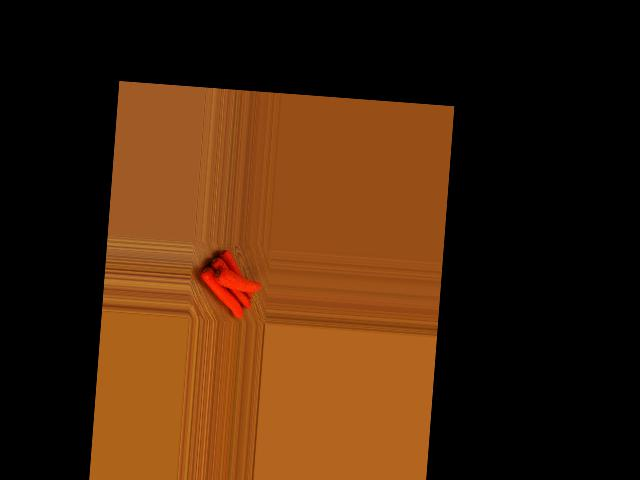carrot: (214, 244, 252, 287)
